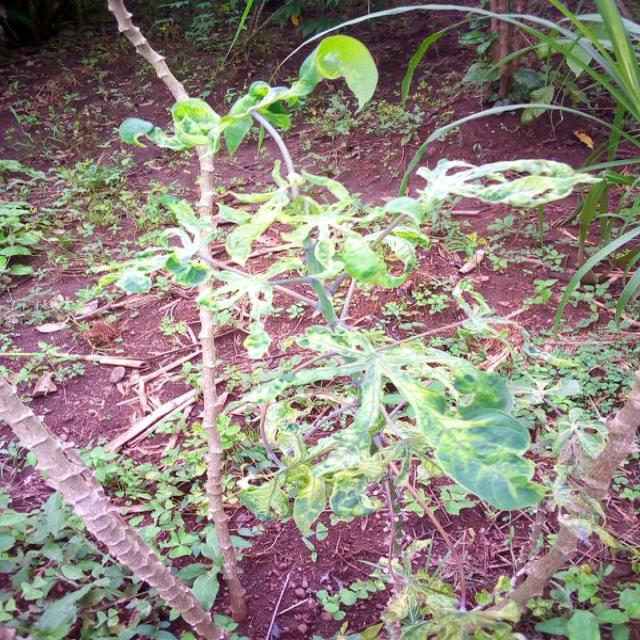cassava leaf: (380, 347, 546, 511), (296, 33, 378, 111)
